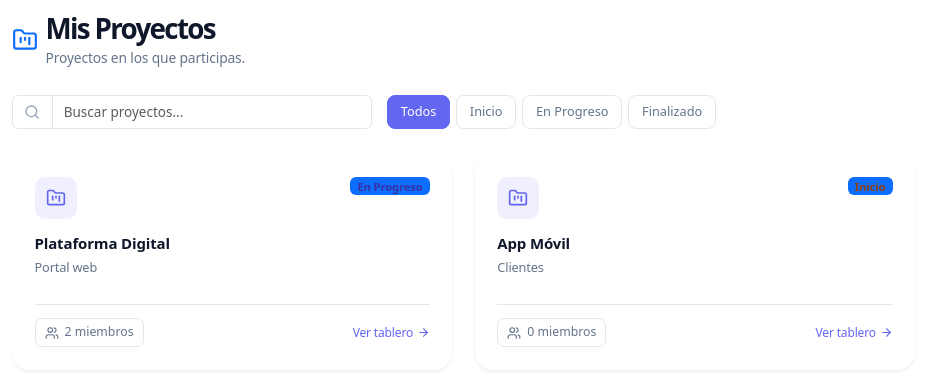
Test: UserProjects › filtra por estado con los botones
The width and height of the screenshot is (929, 389).
Expected: the heading "Plataforma Digital" is shown, [34,234,170,254]
Click the button "Inicio": (486, 112) [456,95,516,128]
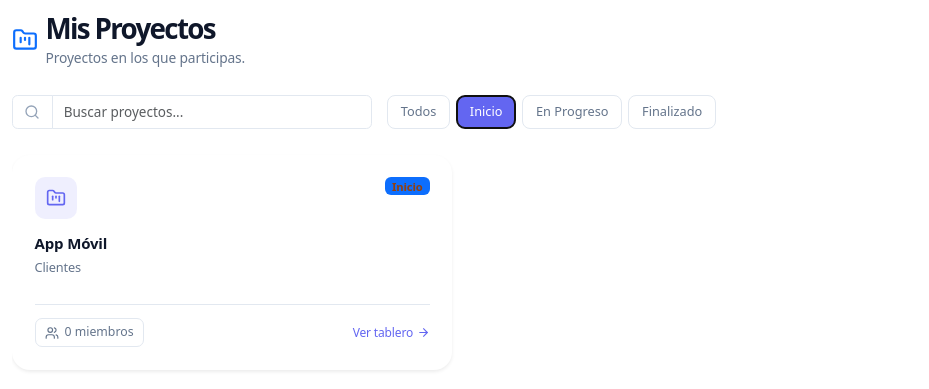
Expected: the heading "App Móvil" is shown, [34,234,107,254]
Now the heading "Plataforma Digital" is gone
